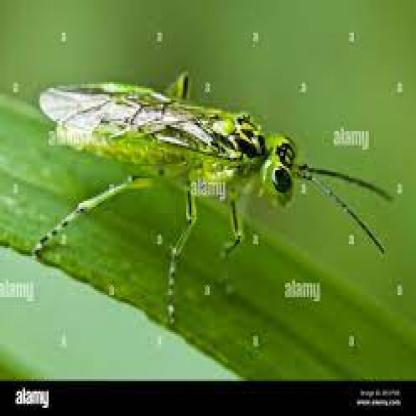sawfly: (25, 73, 389, 304)
